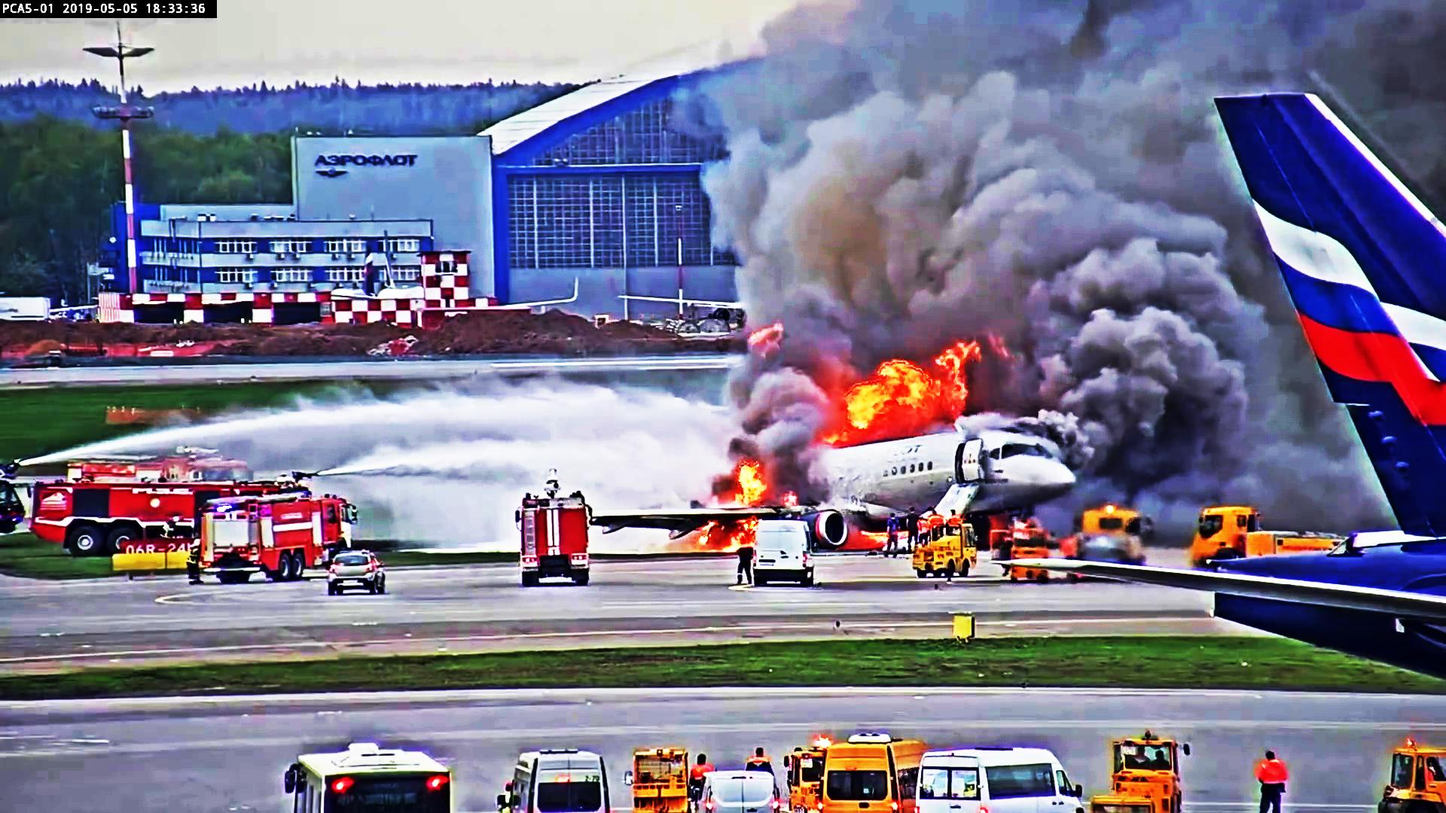fire: (827, 364, 962, 446)
smoke: (723, 0, 1037, 341), (1032, 222, 1248, 472)
